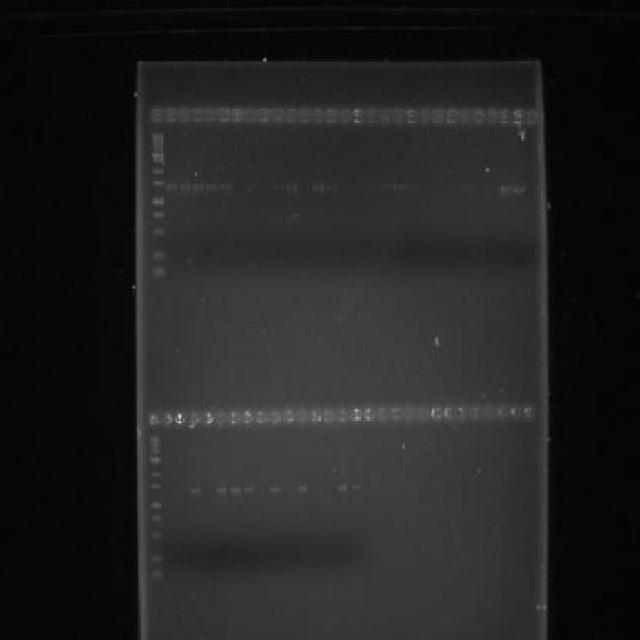B: (498, 180, 512, 196), (391, 179, 407, 192), (286, 180, 300, 194), (312, 180, 326, 194), (514, 183, 528, 197), (218, 178, 232, 191), (164, 181, 178, 194), (215, 484, 228, 498), (192, 180, 205, 193), (205, 180, 218, 193), (178, 181, 191, 194), (349, 479, 362, 492), (336, 481, 349, 494), (270, 180, 284, 192), (326, 180, 340, 192), (242, 484, 255, 494), (296, 484, 309, 494), (228, 484, 241, 494), (188, 486, 201, 494), (270, 483, 281, 492)
L: (142, 402, 542, 432), (146, 102, 540, 130)
M: (145, 432, 167, 596), (148, 129, 168, 288)
P: (148, 568, 164, 584), (152, 264, 166, 281), (150, 550, 163, 566), (148, 528, 164, 541), (152, 248, 166, 262), (149, 512, 162, 526), (148, 454, 161, 468), (152, 164, 165, 176), (150, 226, 164, 237), (152, 196, 166, 207), (149, 499, 162, 510), (151, 209, 164, 220), (151, 178, 164, 187), (150, 482, 161, 492), (149, 470, 160, 479), (151, 152, 164, 158), (151, 157, 164, 163), (151, 146, 164, 152), (151, 131, 164, 137), (148, 442, 161, 448), (148, 436, 161, 442), (149, 448, 160, 454), (151, 143, 164, 148), (150, 137, 164, 140), (151, 140, 164, 143)
Pc: (148, 105, 166, 126), (512, 108, 526, 128), (446, 106, 460, 126), (392, 106, 406, 126), (284, 104, 298, 124), (203, 105, 217, 124), (230, 106, 244, 125), (257, 106, 271, 125), (472, 106, 486, 125), (432, 106, 446, 125), (364, 106, 378, 125), (324, 105, 338, 124), (310, 106, 324, 125), (297, 106, 311, 125), (270, 105, 284, 124), (406, 106, 419, 126), (379, 104, 392, 124), (509, 404, 523, 422), (469, 404, 483, 422), (190, 105, 203, 124), (245, 106, 258, 125), (525, 106, 538, 125), (486, 106, 499, 125), (164, 104, 176, 124), (460, 106, 472, 126), (420, 106, 432, 126), (352, 107, 366, 124), (499, 108, 512, 126), (218, 105, 230, 124), (294, 408, 308, 424), (456, 404, 470, 420), (430, 406, 444, 422), (176, 106, 189, 123), (338, 107, 351, 124), (148, 410, 160, 428), (188, 412, 200, 430), (524, 404, 536, 422), (404, 404, 416, 422), (322, 408, 336, 423), (376, 406, 389, 422), (174, 410, 186, 427), (162, 410, 173, 428), (483, 406, 497, 420), (336, 408, 349, 423), (228, 410, 240, 426), (255, 410, 268, 424), (268, 409, 281, 423), (496, 406, 509, 420), (214, 411, 226, 426), (283, 408, 294, 424), (351, 406, 362, 422), (363, 406, 374, 422), (391, 406, 402, 422), (444, 406, 456, 420), (418, 406, 430, 420), (202, 411, 213, 426), (310, 408, 321, 423), (242, 410, 253, 424)
